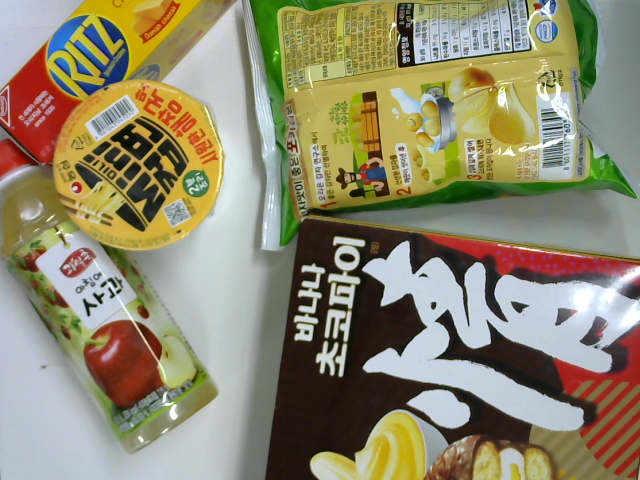Choco_Pie_Banana: (260, 215, 640, 480)
Hejangmini: (53, 79, 226, 255)
Morning_Apple_500ml: (1, 132, 221, 454)
Pocachip_Onion: (240, 1, 639, 255)
Ritz_Sand_Cracker: (1, 1, 237, 170)
